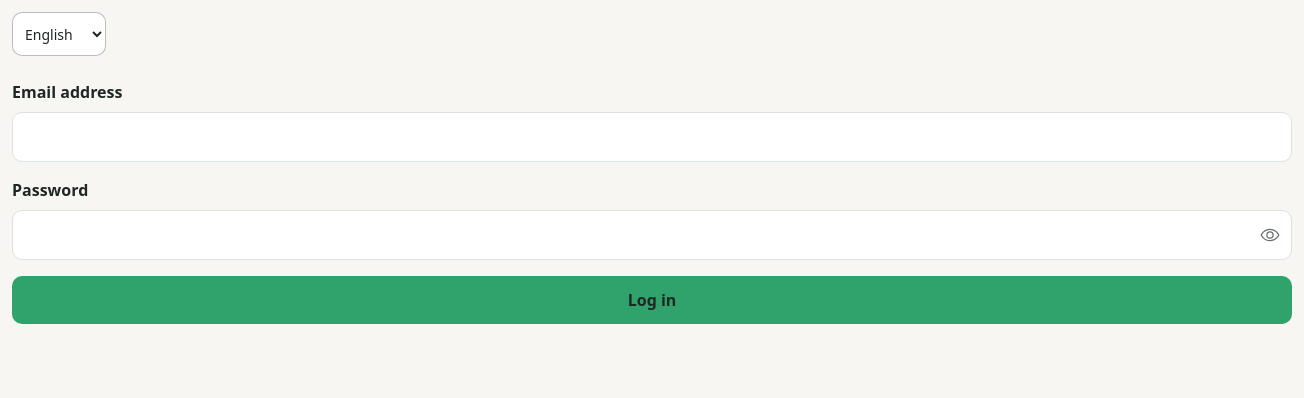
Test: translated application flows › translates existing validation errors without resetting entered form values
Type "invalid-address" into the field labelled "Email address" at (652, 137), box 12,112 -> 1292,162
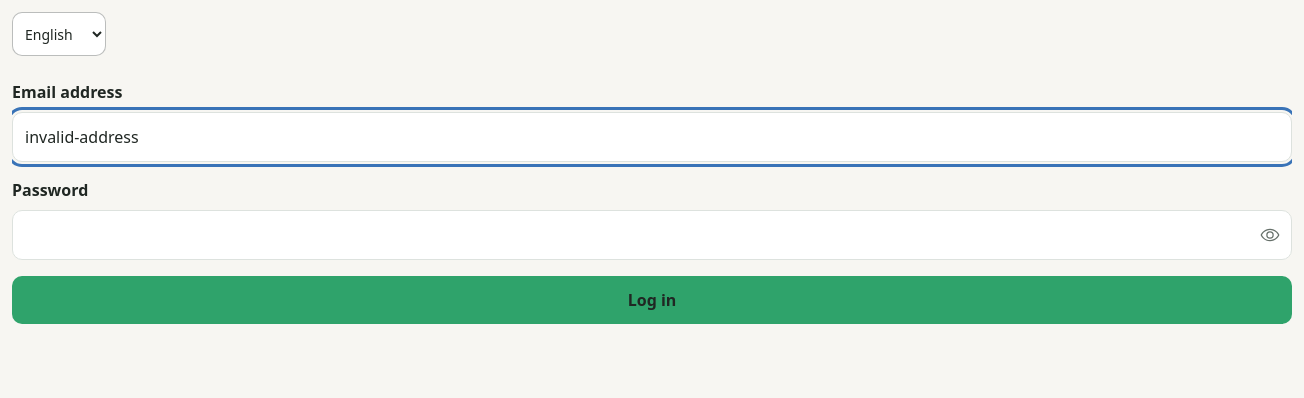
Press Tab
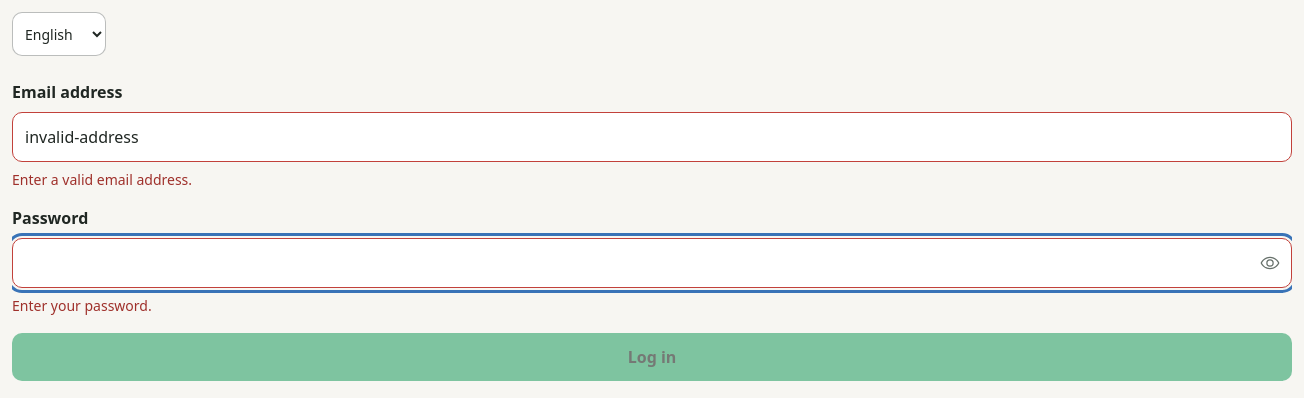
Now the text "Enter a valid email address." is shown, box 12,170 -> 192,189
Select "简体中文" in the dropdown at (59, 34), box 12,12 -> 106,56
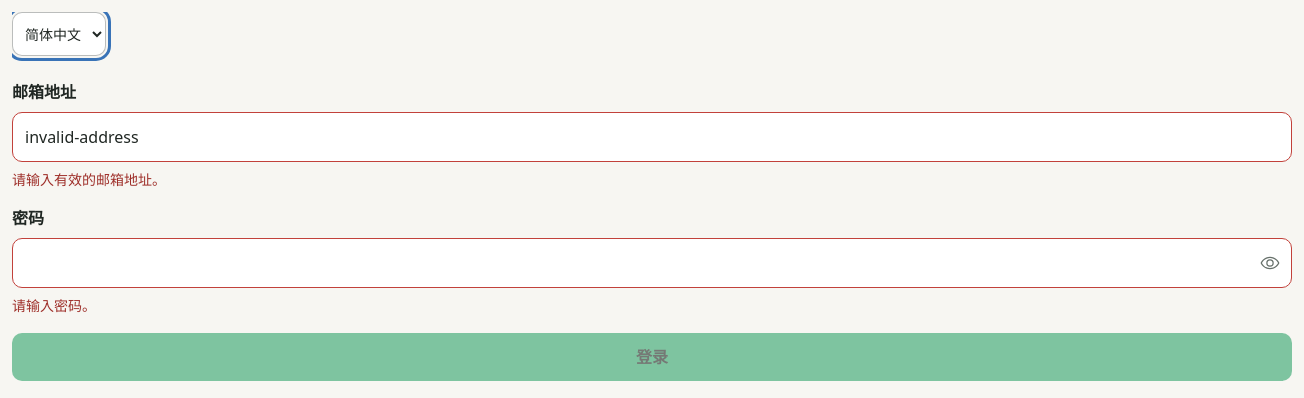
Now the text "请输入有效的邮箱地址。" is shown, box 12,170 -> 166,189
Select "日本語" in the dropdown at (59, 34), box 12,12 -> 106,56
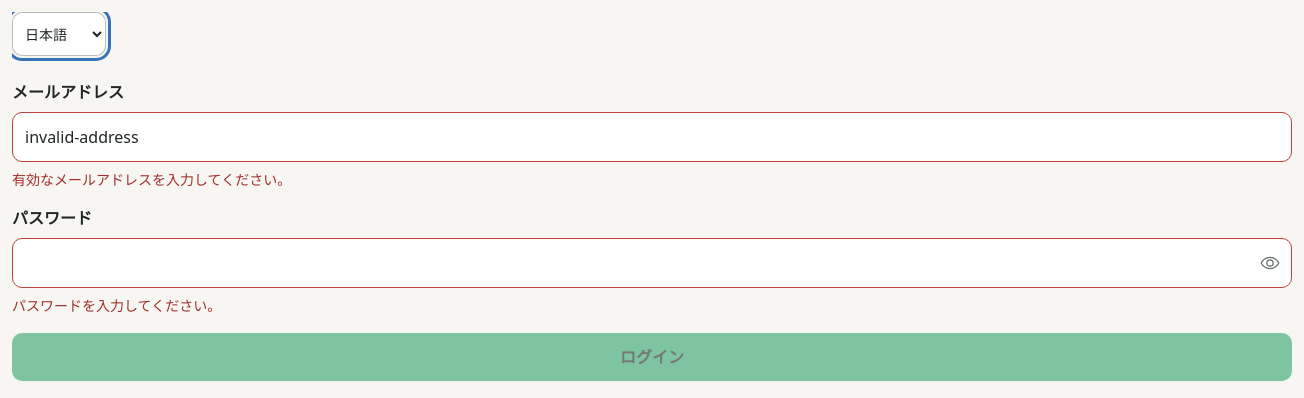
Now the text "有効なメールアドレスを入力してください。" is shown, box 12,170 -> 291,189
